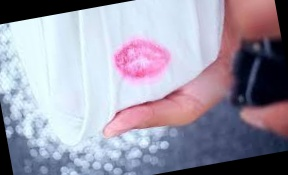lipstick: (112, 31, 178, 87)
